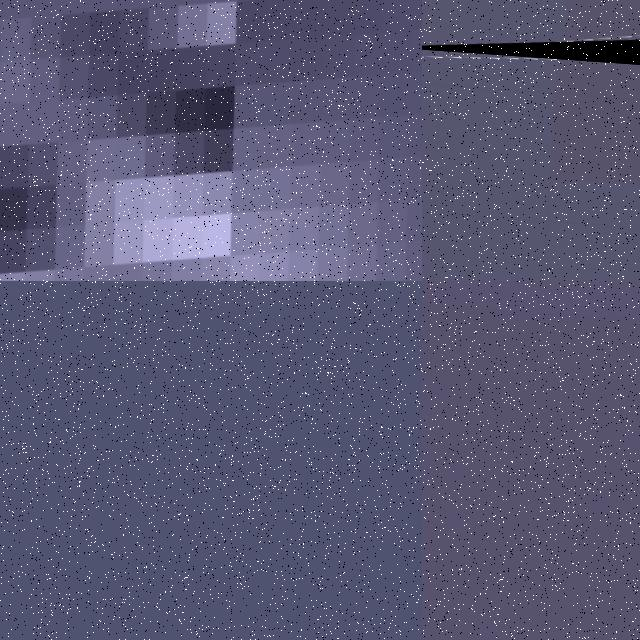drone: (0, 0, 422, 281), (422, 0, 640, 91)
